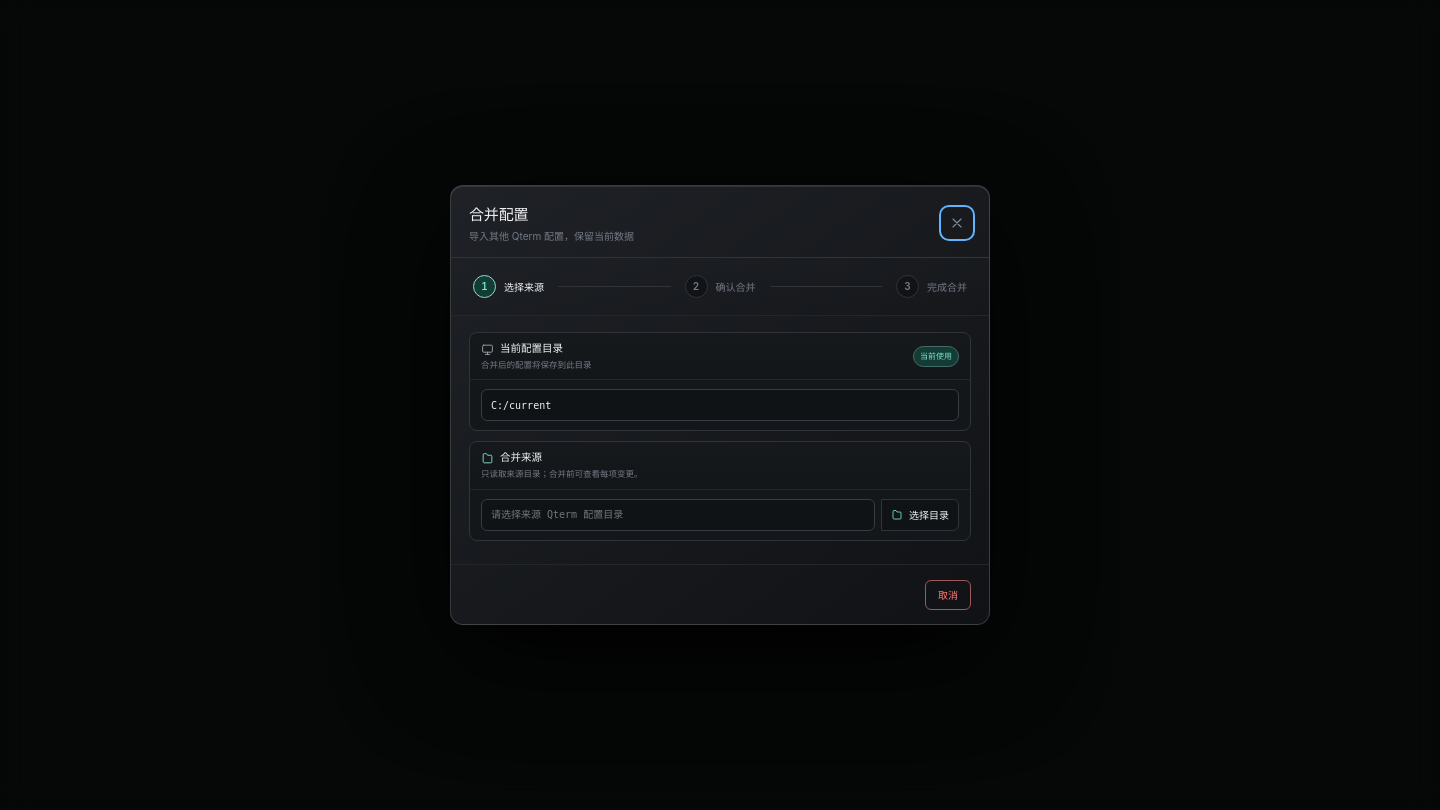
Test: updates dependencies and previews automatically without a separate generate action
What coordinates should you click on to do the following:
click the button with aria-label "选择来源配置目录"
I would click on:
 (920, 514)
Its box is top-left (881, 498), bottom-right (959, 530).
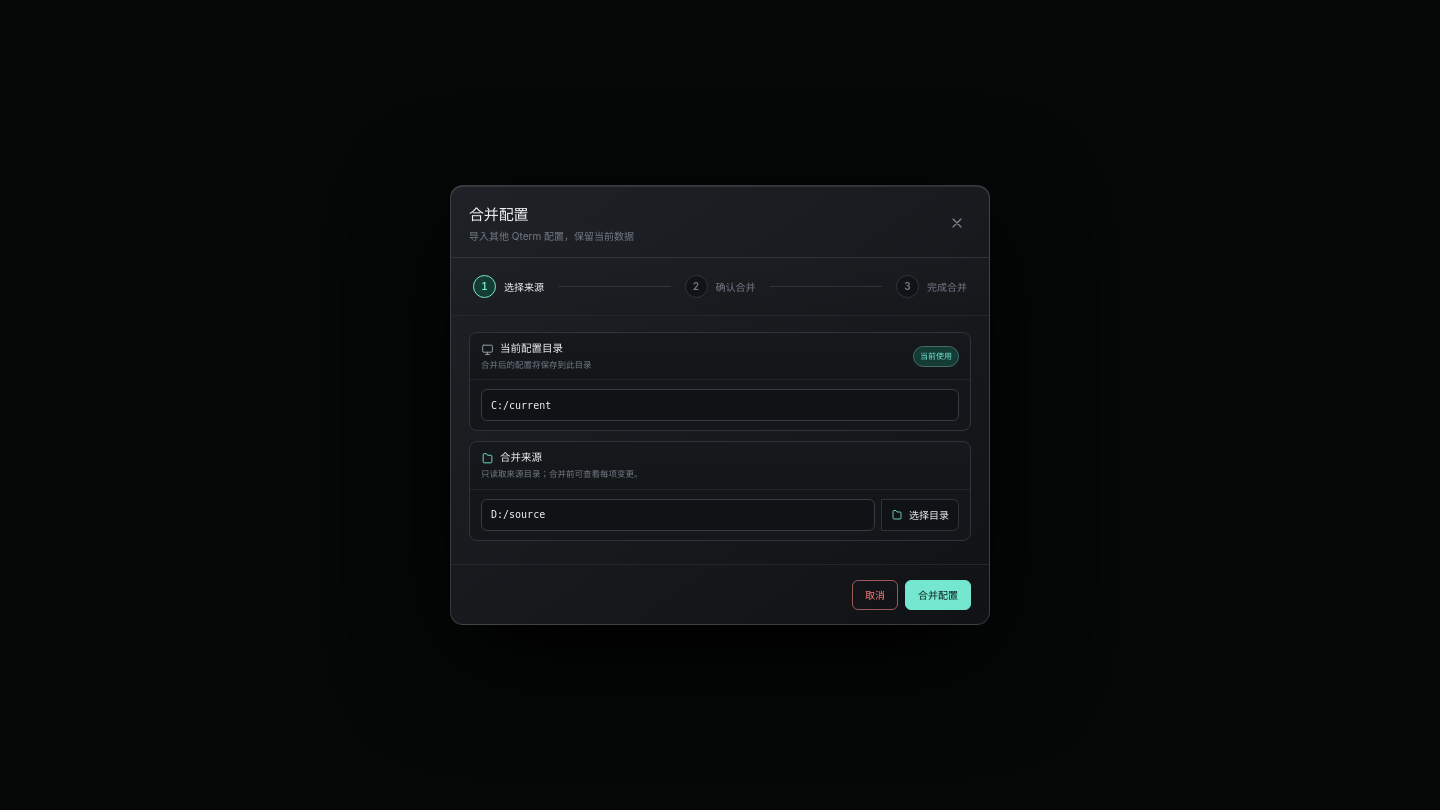
What coordinates should you click on to do the following:
click the button "合并配置"
I would click on:
 (938, 594)
Its box is top-left (905, 580), bottom-right (971, 610).
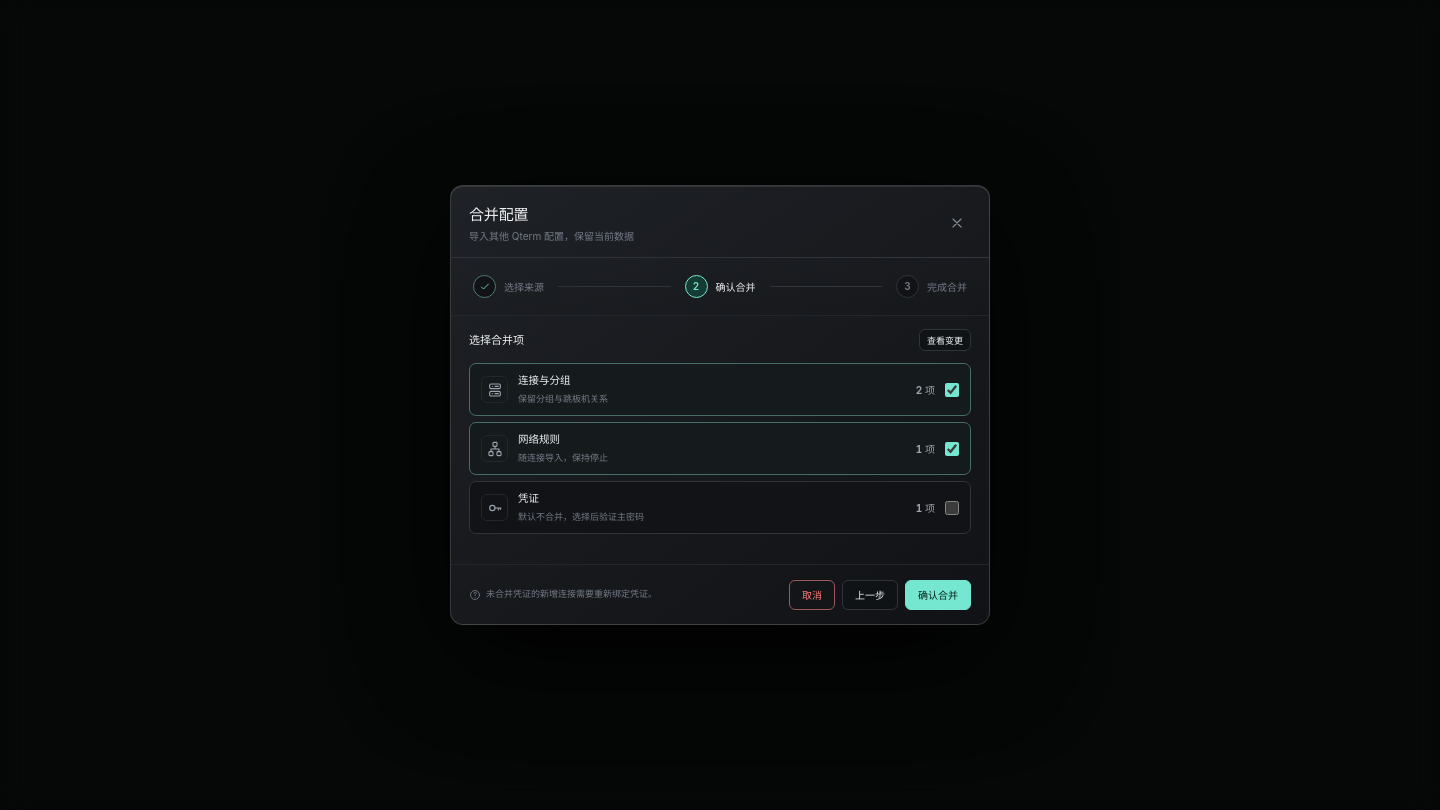
Check: the button "确认合并" is enabled, box top-left (905, 580), bottom-right (971, 610)
What coordinates should you click on to do the following:
click the checkbox labelled "连接与分组"
I would click on:
 (952, 390)
Its box is top-left (945, 382), bottom-right (959, 396).
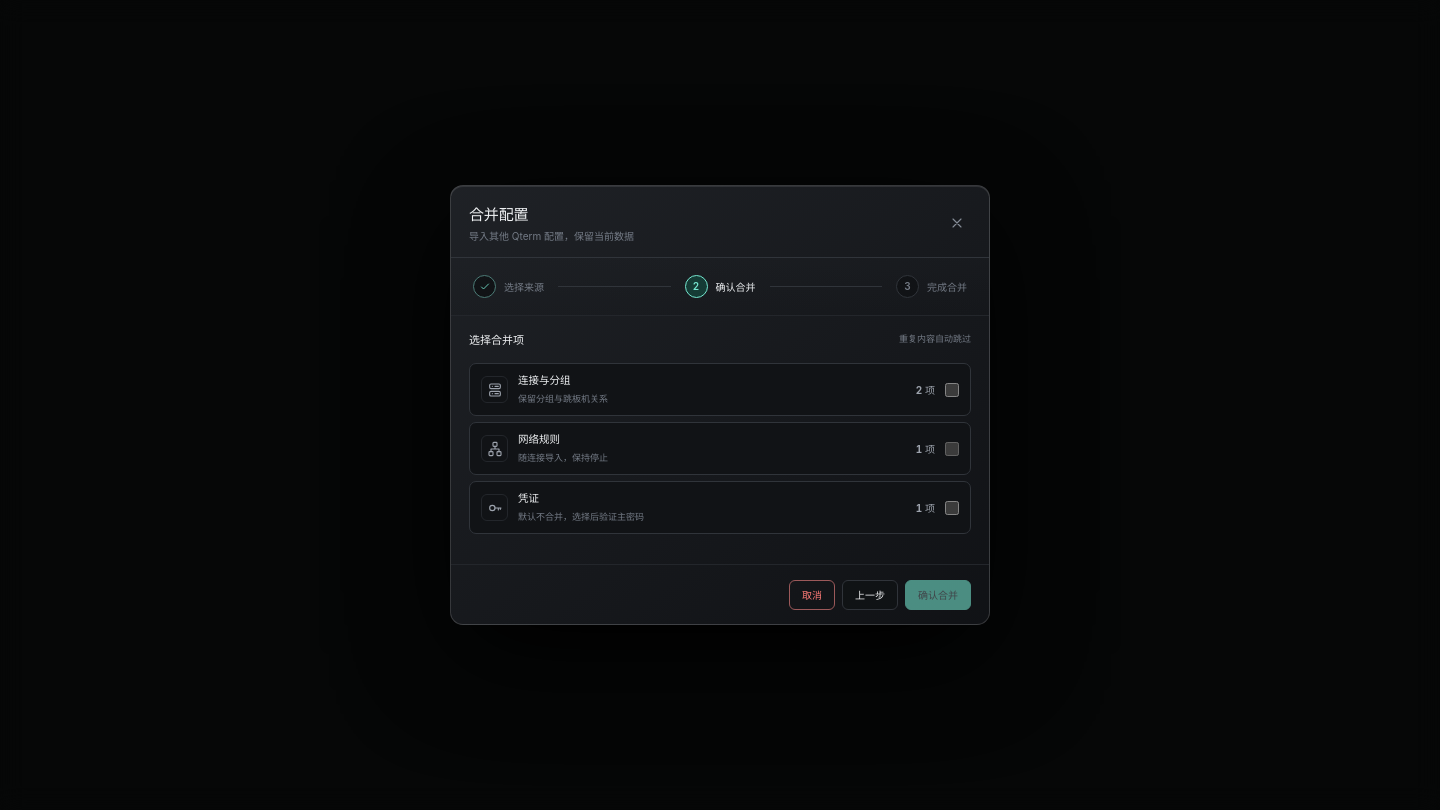
Check: the checkbox labelled "网络规则" is disabled, box top-left (945, 442), bottom-right (959, 456)
Check: the checkbox labelled "网络规则" is not checked, box top-left (945, 442), bottom-right (959, 456)
Check: the button "确认合并" is disabled, box top-left (905, 580), bottom-right (971, 610)
